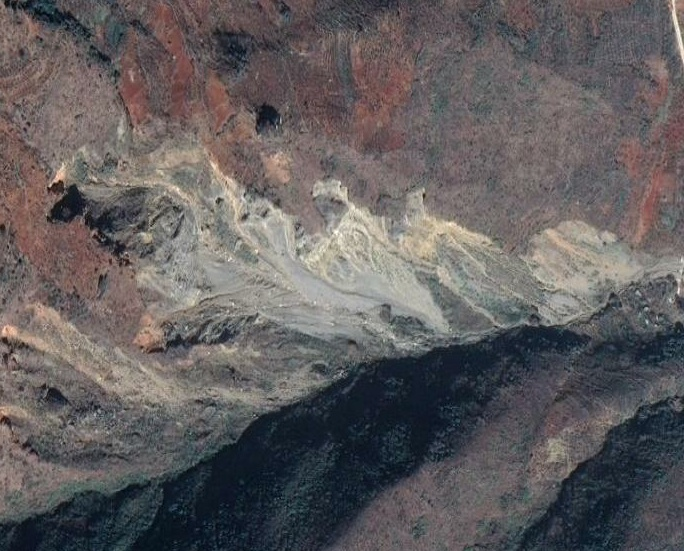slope: (76, 113, 683, 360)
